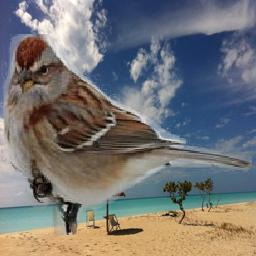Sparrow: (2, 35, 253, 236)
